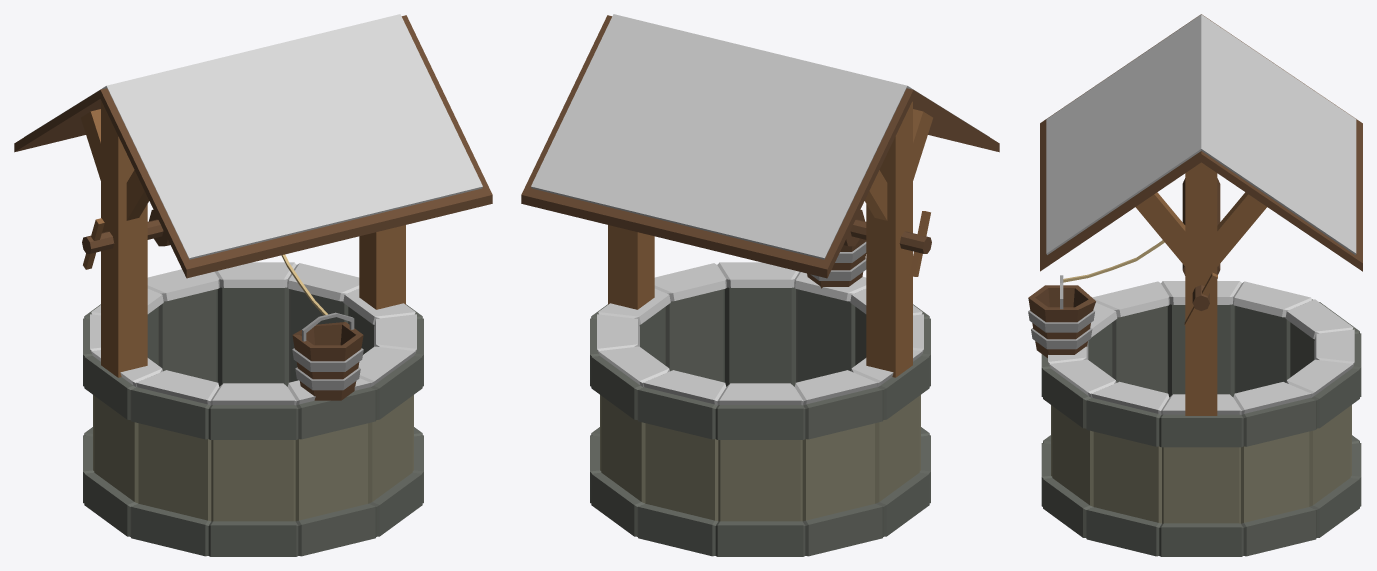
The model's file is Well_snow_mat.fbx.
The picture shows the model from 3 angles, left to right: view 1: azimuth 30°, elevation 25°; view 2: azimuth 150°, elevation 25°; view 3: azimuth 270°, elevation 25°; orthographic projection. The views are drawn at different scales.
Visible parts, largest first — view 1: Well_snow_mat; view 2: Well_snow_mat; view 3: Well_snow_mat.
Part boxes in pixels (bbox=[...]): Well_snow_mat: bbox=[14, 14, 492, 556]; Well_snow_mat: bbox=[521, 14, 999, 556]; Well_snow_mat: bbox=[1028, 14, 1362, 556].
Size of the model in its own units: 116 by 144 by 107.
